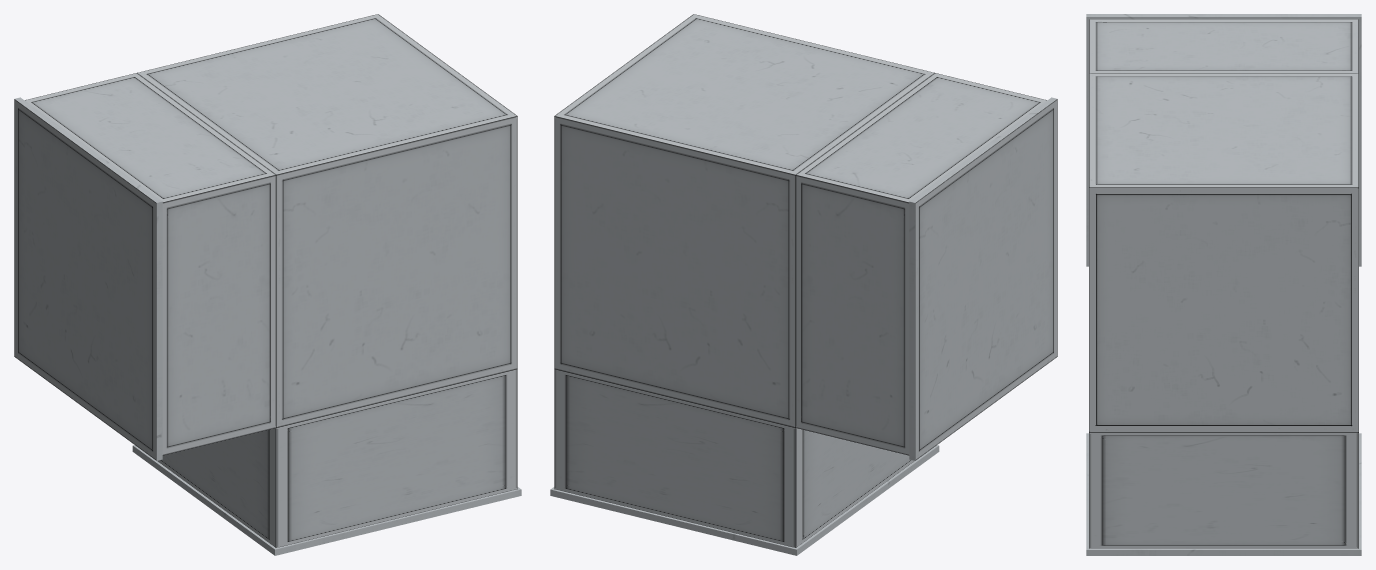
The model's file is Duct_01_Corner.FBX.
The picture shows the model from 3 angles, left to right: view 1: azimuth 30°, elevation 25°; view 2: azimuth 150°, elevation 25°; view 3: azimuth 270°, elevation 25°; orthographic projection. The views are drawn at different scales.
Visible parts, largest first — view 1: Duct_01_Corner; view 2: Duct_01_Corner; view 3: Duct_01_Corner.
Part boxes in pixels (left/top/right/bottom): Duct_01_Corner: left=14, top=14, right=521, bottom=555; Duct_01_Corner: left=550, top=14, right=1057, bottom=555; Duct_01_Corner: left=1086, top=14, right=1361, bottom=555.
Bounding box in the file's own units: 3.02 × 3.02 × 2.04.
1 material, 1 textured.
